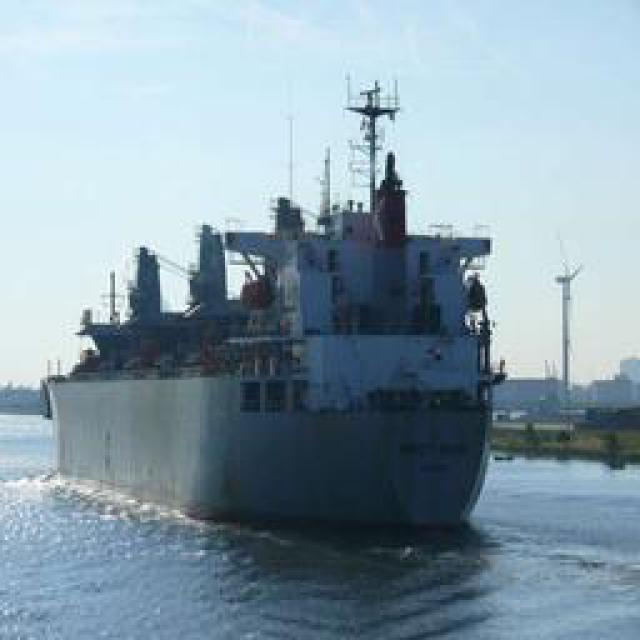Ship: (41, 43, 501, 538)
